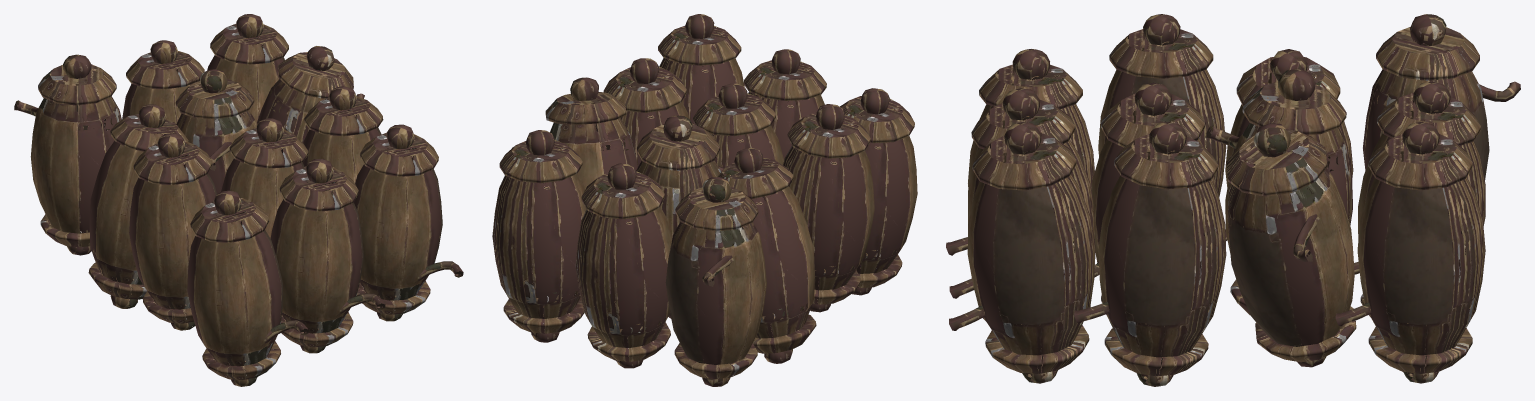
3 renders of one model, left to right at view 1: azimuth 30°, elevation 25°; view 2: azimuth 150°, elevation 25°; view 3: azimuth 270°, elevation 25°, orthographic. The views are drawn at different scales.
Visible parts, largest first — view 1: SM_Dec_Garou_Chest_01_LOD0; view 2: SM_Dec_Garou_Chest_01_LOD0; view 3: SM_Dec_Garou_Chest_01_LOD0.
Part boxes in pixels (bbox=[...]): SM_Dec_Garou_Chest_01_LOD0: bbox=[14, 14, 463, 386]; SM_Dec_Garou_Chest_01_LOD0: bbox=[492, 14, 917, 386]; SM_Dec_Garou_Chest_01_LOD0: bbox=[946, 14, 1520, 386].
Size of the model in its own units: 0.6331 by 0.4891 by 0.8427.
